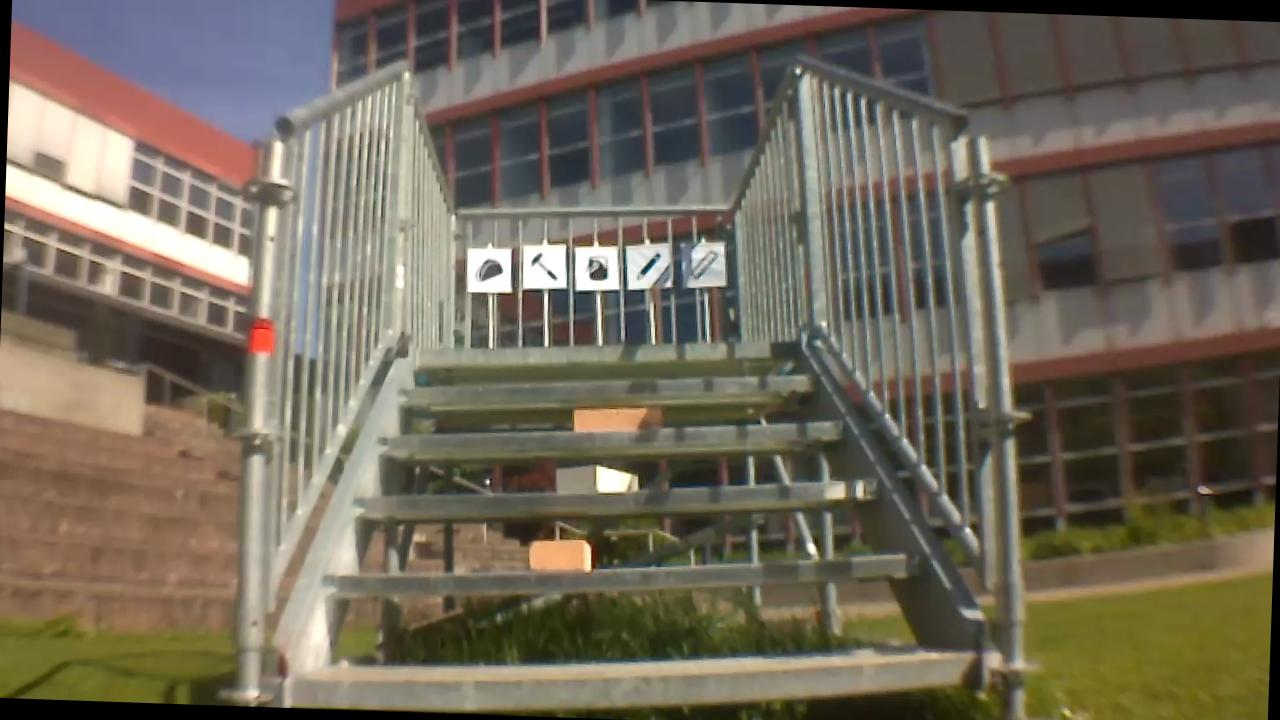brick: (565, 404, 662, 432), (553, 466, 640, 494), (528, 536, 590, 571)
bucket: (579, 251, 609, 282)
edge: (288, 633, 967, 720), (312, 536, 915, 624), (348, 472, 875, 537), (376, 423, 841, 474), (392, 368, 822, 419), (414, 328, 799, 375)
hammer: (525, 251, 560, 282)
pencil: (631, 246, 668, 285)
ruler: (687, 243, 721, 281)
stairs: (224, 48, 1039, 720)
steps: (242, 320, 973, 720)
taco: (469, 250, 504, 287)
